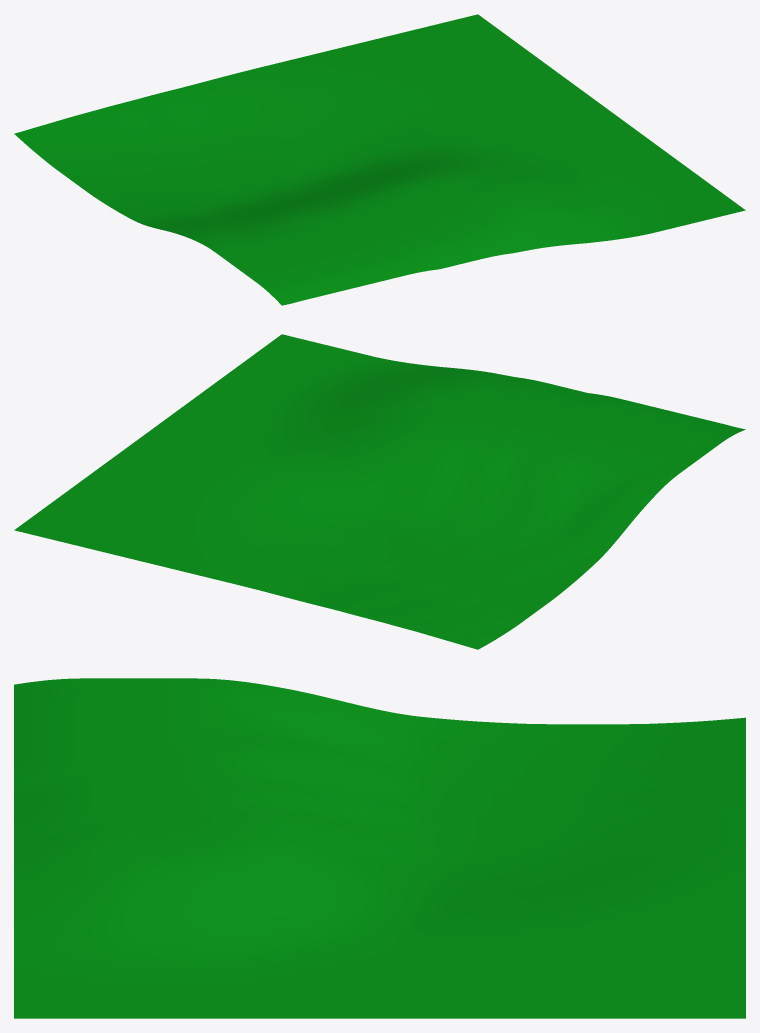
The model's file is CHUNK_0_1.glb.
The picture shows the model from 3 angles, top to bottom: view 1: azimuth 30°, elevation 25°; view 2: azimuth 150°, elevation 25°; view 3: azimuth 270°, elevation 25°; orthographic projection. The views are drawn at different scales.
Visible parts, largest first — view 1: Chunk_0_1; view 2: Chunk_0_1; view 3: Chunk_0_1.
Boxes of the visible parts, x1,y1,x2,y2 form: Chunk_0_1: (14, 14, 745, 305); Chunk_0_1: (14, 334, 745, 649); Chunk_0_1: (14, 678, 745, 1018).
Size of the model in its own units: 99.99 by 6.89 by 99.99.
